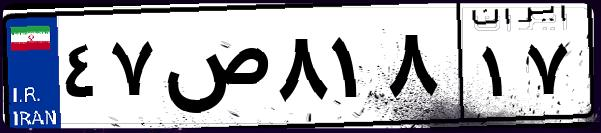1: (330, 28, 385, 110), (475, 38, 525, 113)
4: (57, 26, 110, 100)
7: (525, 38, 570, 115), (110, 28, 158, 98)
8: (270, 28, 330, 110), (385, 28, 445, 110)
ص: (158, 20, 270, 120)
